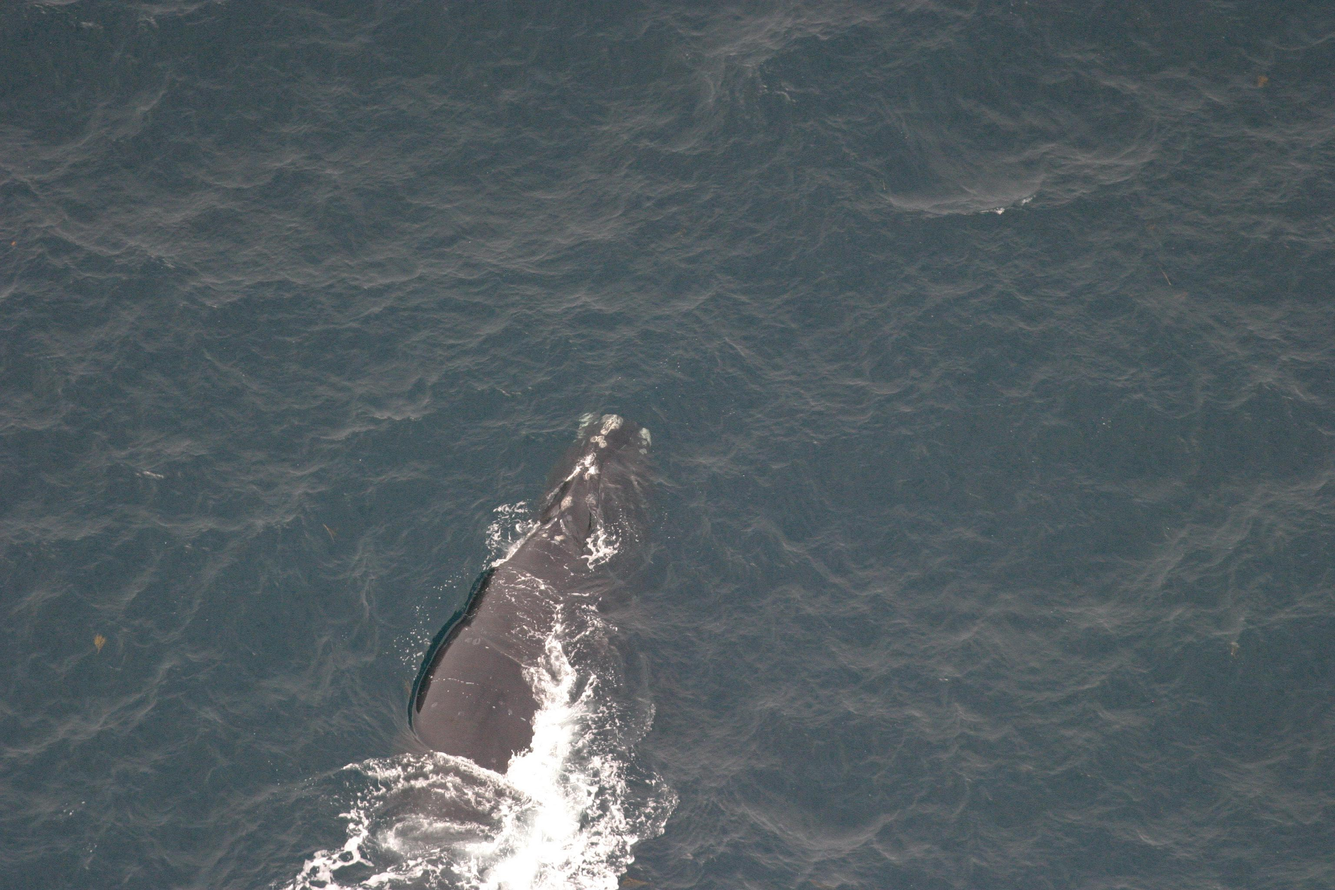whale: (298, 399, 674, 890)
